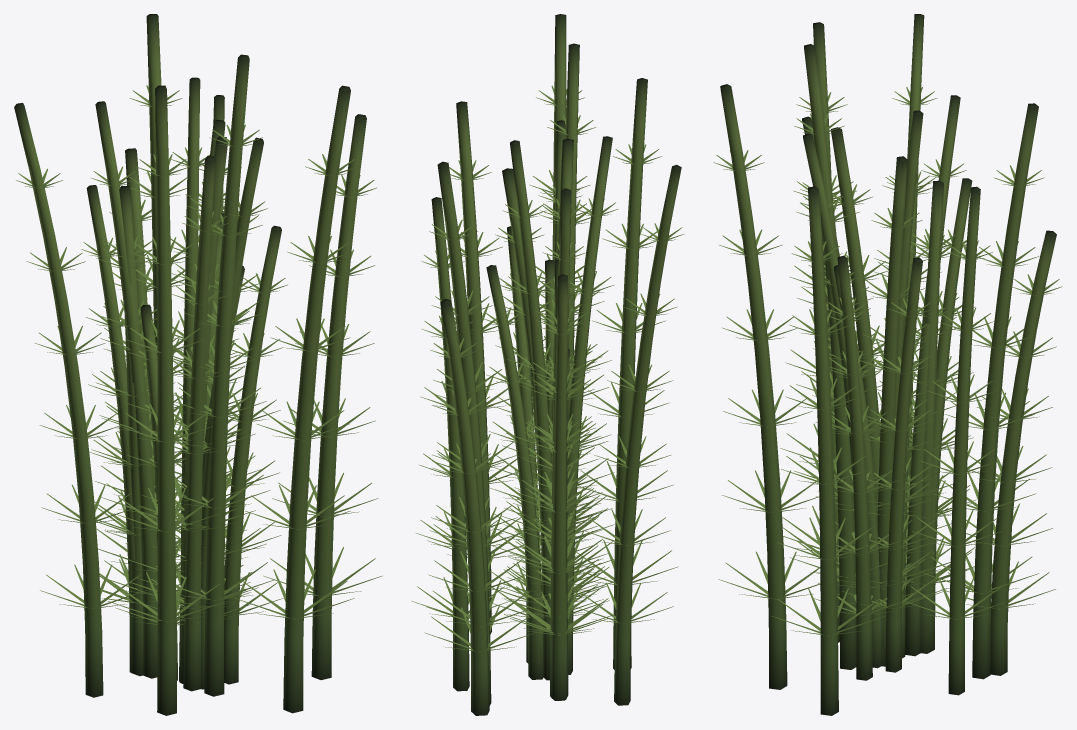
The model's file is horsetail.glb.
3 views of the same model, side by side, from view 1: azimuth 30°, elevation 25°; view 2: azimuth 150°, elevation 25°; view 3: azimuth 270°, elevation 25° (orthographic). The views are drawn at different scales.
Visible parts, largest first — view 1: horsetail1, horsetail0; view 2: horsetail0, horsetail1; view 3: horsetail1, horsetail0.
Part boxes in pixels (x1=…): horsetail1: x1=91, y1=14, x2=382, y2=715; horsetail0: x1=14, y1=77, x2=287, y2=697; horsetail0: x1=411, y1=120, x2=684, y2=705; horsetail1: x1=424, y1=14, x2=678, y2=715; horsetail1: x1=713, y1=22, x2=1062, y2=715; horsetail0: x1=800, y1=14, x2=1007, y2=695.
Size of the model in its own units: 0.765 by 1.51 by 0.7657.
